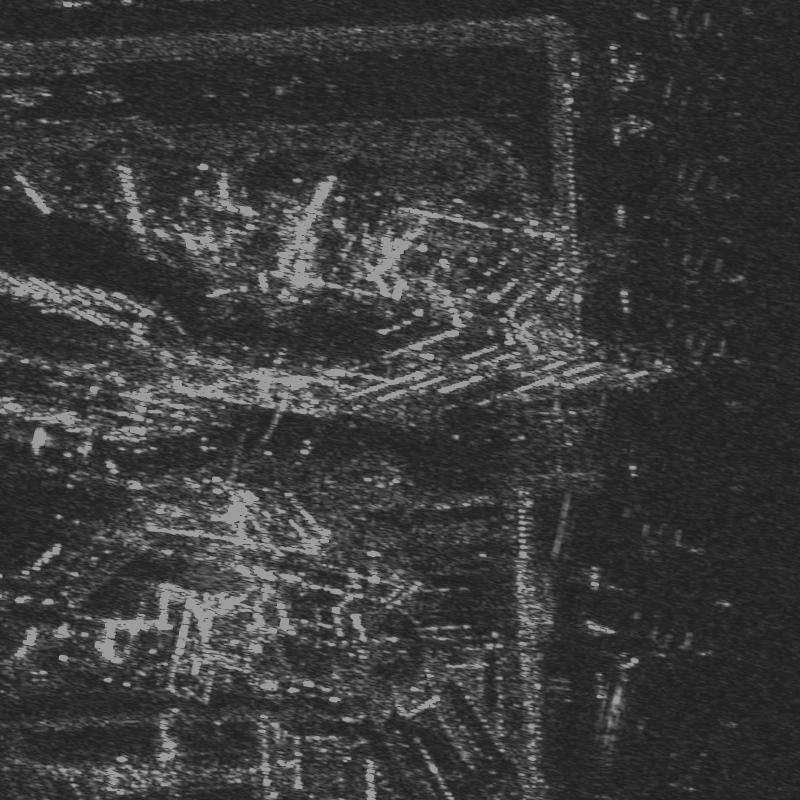A220: (648, 162, 749, 235), (686, 336, 783, 409), (675, 248, 758, 326), (662, 1, 744, 79), (621, 623, 719, 688)
